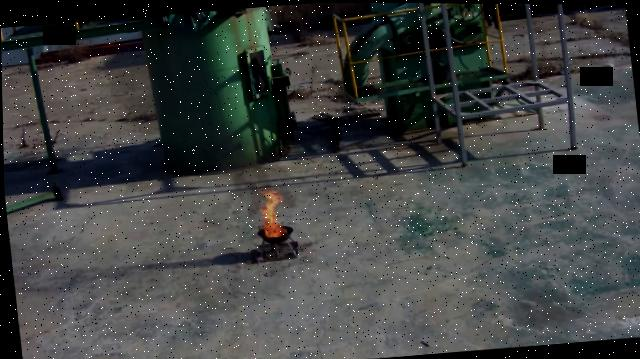fire: (257, 189, 285, 237)
smoke: (230, 164, 294, 218)
